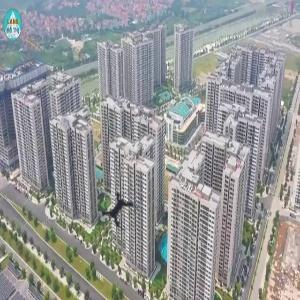drone: (84, 173, 157, 246)
